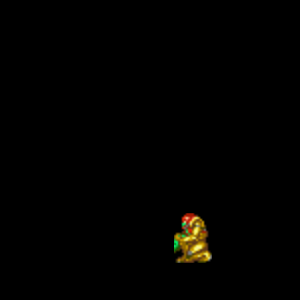Collectible: (174, 213, 212, 263)
